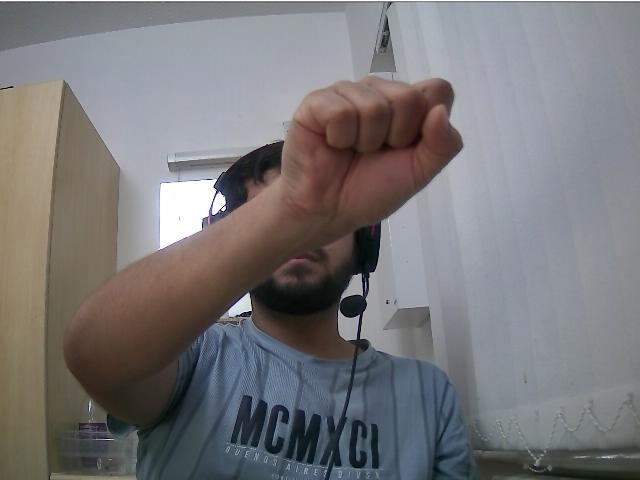hold: (283, 73, 465, 227)
